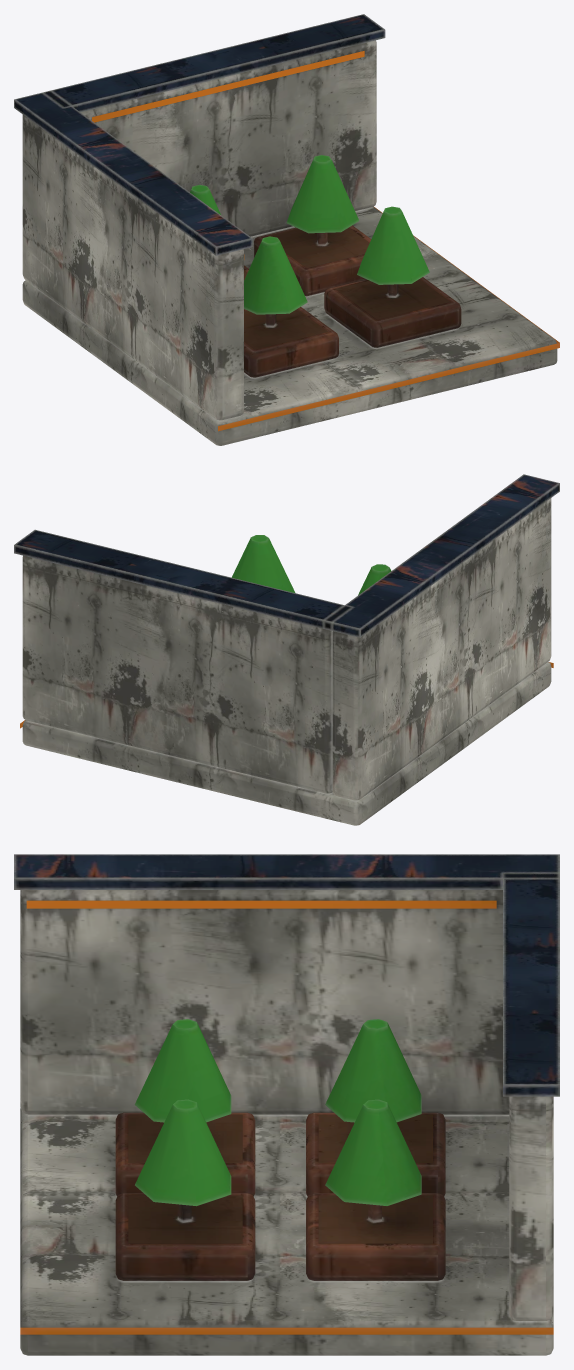
File: luxury_promenade.glb
3 views of the same model, one above another, from view 1: azimuth 30°, elevation 25°; view 2: azimuth 150°, elevation 25°; view 3: azimuth 270°, elevation 25° (orthographic). The views are drawn at different scales.
Visible parts, largest first — view 1: te_luxury_promenade; view 2: te_luxury_promenade; view 3: te_luxury_promenade.
Boxes of the visible parts, x1,y1,x2,y2 form: te_luxury_promenade: (14,14,559,445); te_luxury_promenade: (14,474,559,825); te_luxury_promenade: (14,854,559,1355).
Bounding box in the file's own units: 0.86 × 0.48 × 0.86.
Materials: 1 (1 with a texture image).
